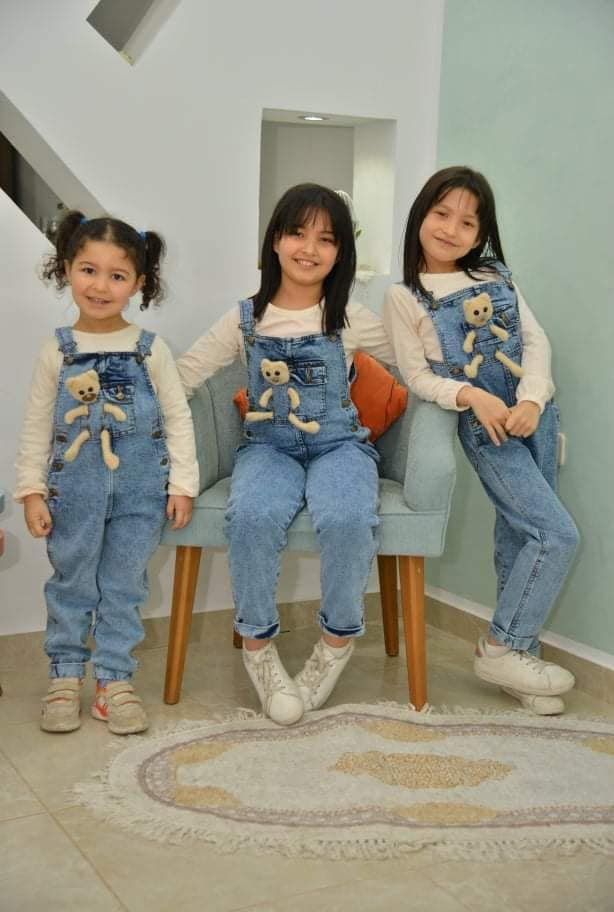without_mask: (275, 221, 338, 278), (74, 258, 132, 312), (426, 201, 480, 257)
